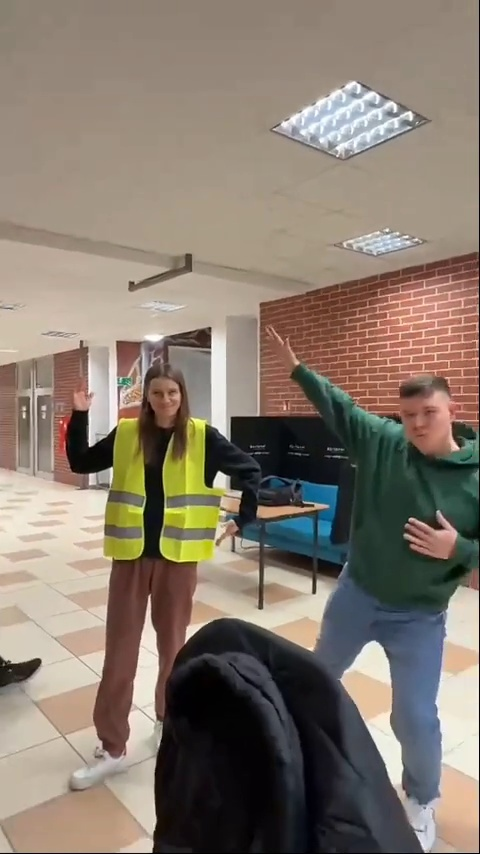no vest: (278, 337, 479, 784)
vest: (66, 352, 257, 829)
